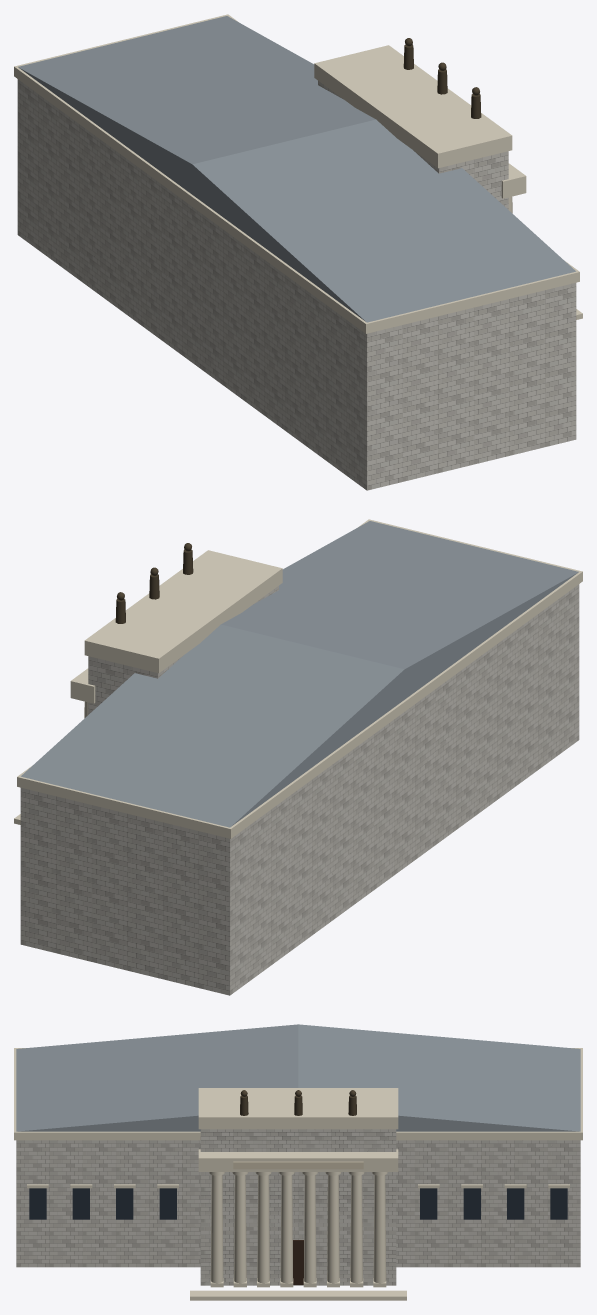
The model's file is msk.obj.
3 views of the same model, one above another, from view 1: azimuth 30°, elevation 25°; view 2: azimuth 150°, elevation 25°; view 3: azimuth 270°, elevation 25° (orthographic). The views are drawn at different scales.
Parts seen in each view (by area): view 1: part1, part3, part25.nocast, part2.nocast, part24, part50; view 2: part1, part3, part25.nocast, part2.nocast, part24, part50; view 3: part3, part1, part24, part25.nocast, part2.nocast, part50, part55, part32, part41, part29, part44, part35 (+13 smaller).
Part boxes in pixels (x1,y1,x2,y2): part1: [17, 79, 576, 490]; part3: [18, 16, 575, 322]; part25.nocast: [314, 45, 512, 168]; part2.nocast: [14, 14, 579, 333]; part24: [318, 81, 508, 209]; part50: [501, 163, 526, 198]; part1: [20, 584, 579, 995]; part3: [21, 521, 578, 827]; part25.nocast: [84, 550, 282, 673]; part2.nocast: [17, 519, 582, 838]; part24: [88, 586, 278, 714]; part50: [70, 668, 95, 703]; part3: [16, 1024, 580, 1131]; part1: [16, 1140, 580, 1267]; part24: [200, 1129, 396, 1285]; part25.nocast: [198, 1088, 398, 1129]; part2.nocast: [14, 1048, 582, 1140]; part50: [198, 1149, 398, 1171]; part55: [190, 1291, 406, 1300]; part32: [327, 1175, 339, 1283]; part41: [257, 1175, 269, 1283]; part29: [350, 1175, 362, 1283]; part44: [234, 1175, 246, 1283]; part35: [304, 1175, 316, 1283].
Size of the model in its own units: 28 by 19.62 by 52.4.
7 materials, 1 textured.
